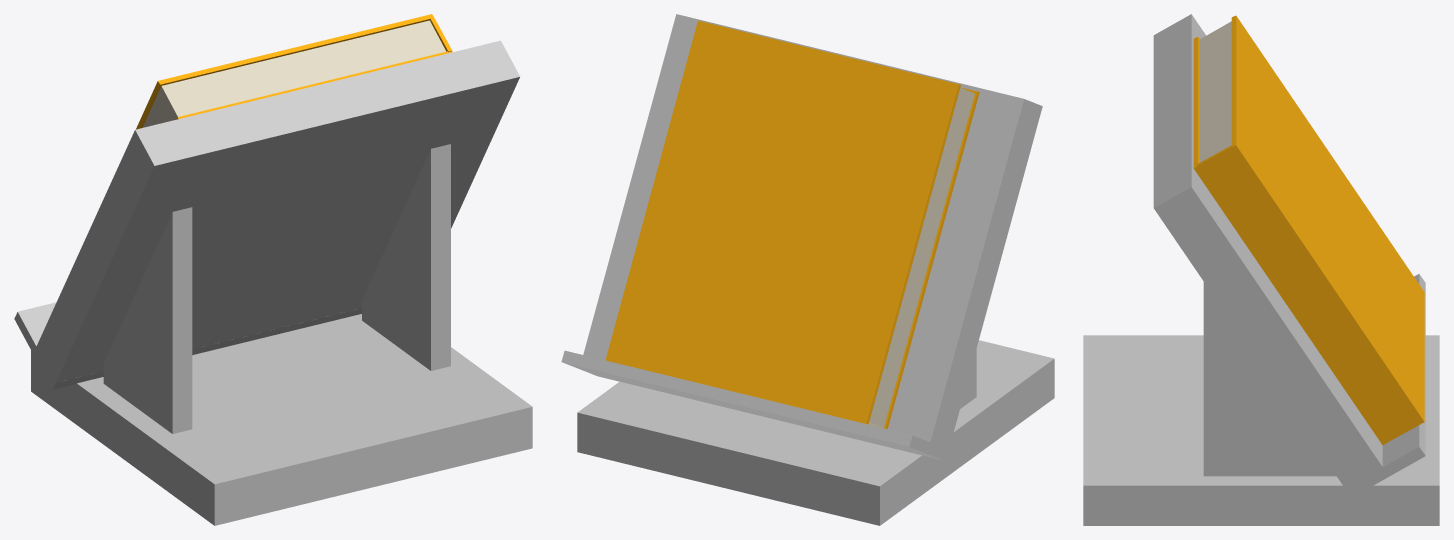
The model's file is bookstand_withbook_closed.obj.
3 renders of one model, left to right at view 1: azimuth 30°, elevation 25°; view 2: azimuth 150°, elevation 25°; view 3: azimuth 270°, elevation 25°, orthographic. The views are drawn at different scales.
Parts seen in each view (by area): view 1: Cube_Cube.002; view 2: Cube_Cube.002; view 3: Cube_Cube.002.
Part boxes in pixels (x1,y1,x2,y2): Cube_Cube.002: (14, 14, 532, 525); Cube_Cube.002: (561, 14, 1054, 525); Cube_Cube.002: (1083, 14, 1439, 525).
Bounding box in the file's own units: 0.92 × 0.9183 × 0.8.
